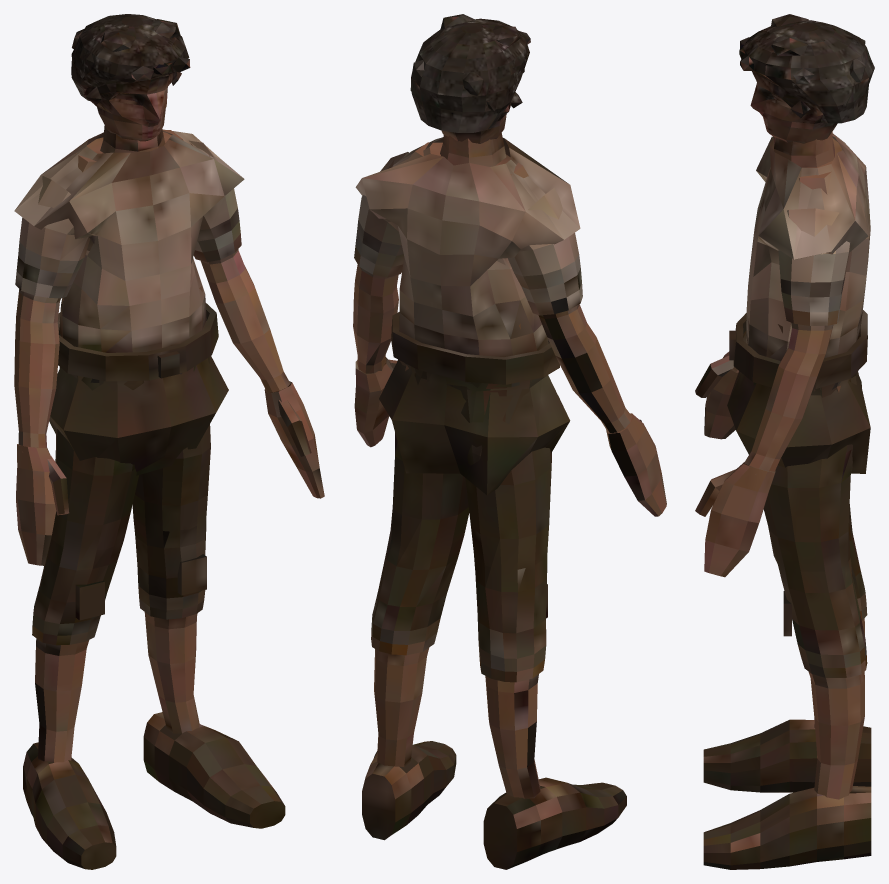
File: lincoln.glb
3 views of the same model, side by side, from view 1: azimuth 30°, elevation 25°; view 2: azimuth 150°, elevation 25°; view 3: azimuth 270°, elevation 25° (orthographic).
Visible parts, largest first — view 1: body still, gear: wool trousers still, gear: linen work shirt still, gear: leather brogans still, gear: leather belt still; view 2: gear: wool trousers still, body still, gear: linen work shirt still, gear: leather brogans still, gear: leather belt still; view 3: body still, gear: wool trousers still, gear: linen work shirt still, gear: leather brogans still, gear: leather belt still.
Boxes of the visible parts, x1,y1,x2,y2 form: body still: (14, 14, 324, 762); gear: wool trousers still: (32, 356, 228, 645); gear: linen work shirt still: (14, 129, 244, 352); gear: leather brogans still: (23, 712, 285, 869); gear: leather belt still: (57, 303, 218, 381); gear: wool trousers still: (371, 359, 570, 682); body still: (353, 14, 666, 798); gear: linen work shirt still: (354, 137, 582, 387); gear: leather brogans still: (362, 741, 626, 869); gear: leather belt still: (391, 312, 559, 384); body still: (695, 14, 874, 799); gear: wool trousers still: (727, 331, 870, 677); gear: linen work shirt still: (746, 133, 870, 391); gear: leather brogans still: (703, 719, 871, 869); gear: leather belt still: (729, 310, 867, 389).
Size of the model in its own units: 0.7431 by 1.94 by 0.3969.
Materials: 2 (2 with a texture image).
